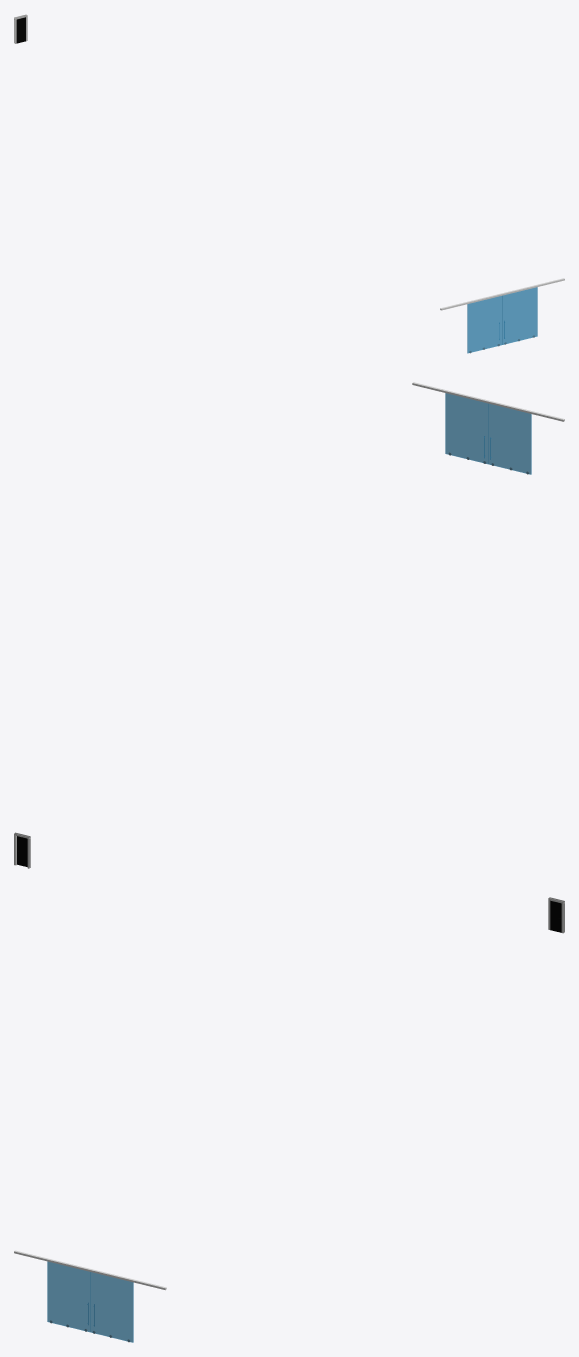
File: door.fbx
3 renders of one model, top to bottom at view 1: azimuth 30°, elevation 25°; view 2: azimuth 150°, elevation 25°; view 3: azimuth 330°, elevation 25°, orthographic. The views are drawn at different scales.
Parts seen in each view (by area): view 1: 3, 2_2; view 2: 3, 2_2; view 3: 3, 2_2, 1.
Part boxes in pixels (bbox=[...]): 3: bbox=[467, 295, 502, 353]; 2_2: bbox=[502, 287, 537, 344]; 3: bbox=[488, 403, 531, 474]; 2_2: bbox=[445, 393, 488, 464]; 3: bbox=[47, 1261, 90, 1332]; 2_2: bbox=[90, 1272, 133, 1342]; 1: bbox=[14, 1250, 166, 1290].
Size of the model in its own units: 1062 by 425 by 6429.
